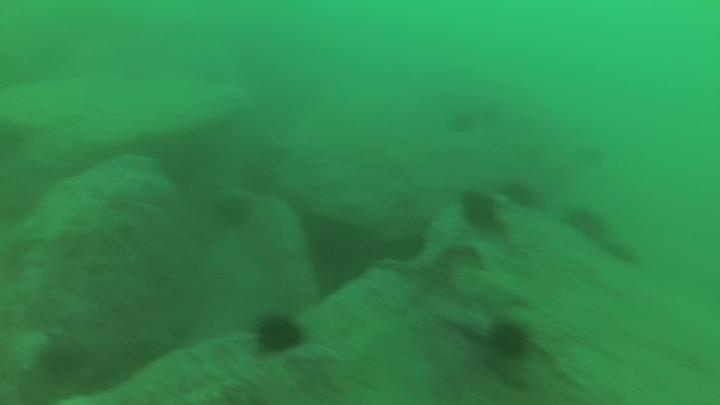echinus: (250, 311, 308, 357), (37, 340, 87, 382), (457, 188, 502, 234), (486, 319, 532, 362), (561, 204, 609, 243), (214, 192, 255, 230), (499, 178, 541, 211), (601, 241, 639, 270), (446, 107, 478, 138)
starfish: (456, 267, 532, 320)
